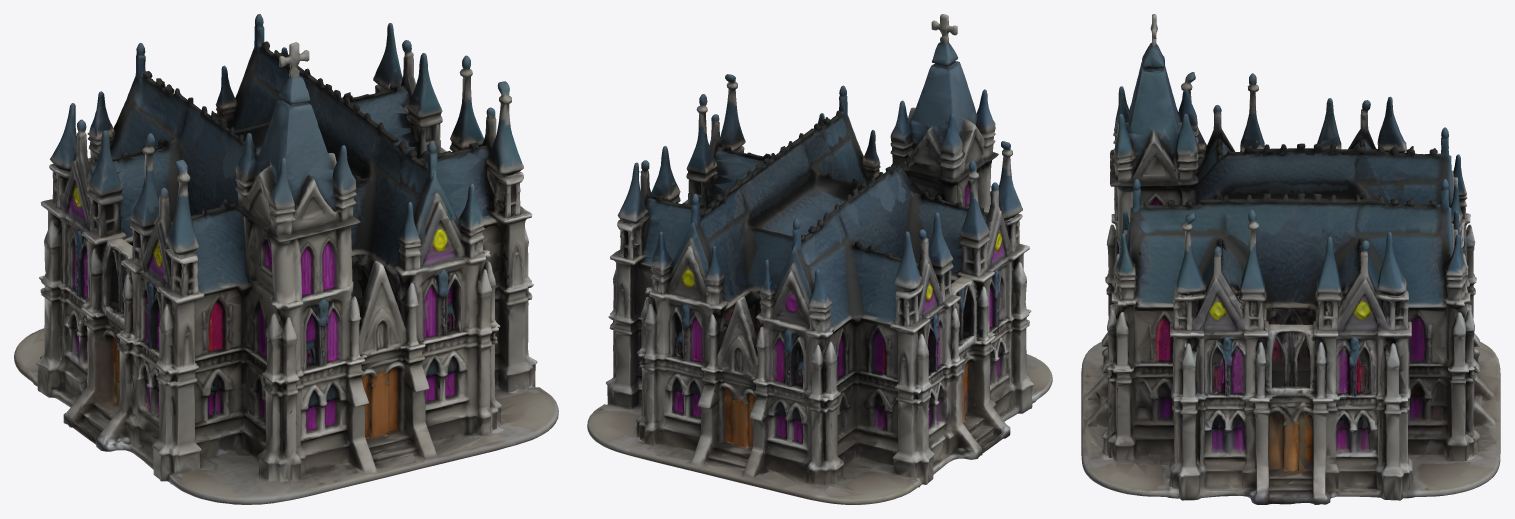
File: Towermap1.fbx
3 views of the same model, side by side, from view 1: azimuth 30°, elevation 25°; view 2: azimuth 150°, elevation 25°; view 3: azimuth 270°, elevation 25° (orthographic). The views are drawn at different scales.
Parts seen in each view (by area): view 1: Mesh_0; view 2: Mesh_0; view 3: Mesh_0.
Part boxes in pixels (<box>): Mesh_0: <box>14,14,558,504</box>; Mesh_0: <box>587,14,1052,504</box>; Mesh_0: <box>1081,14,1500,504</box>.
Bounding box in the file's own units: 190 × 188 × 190.
